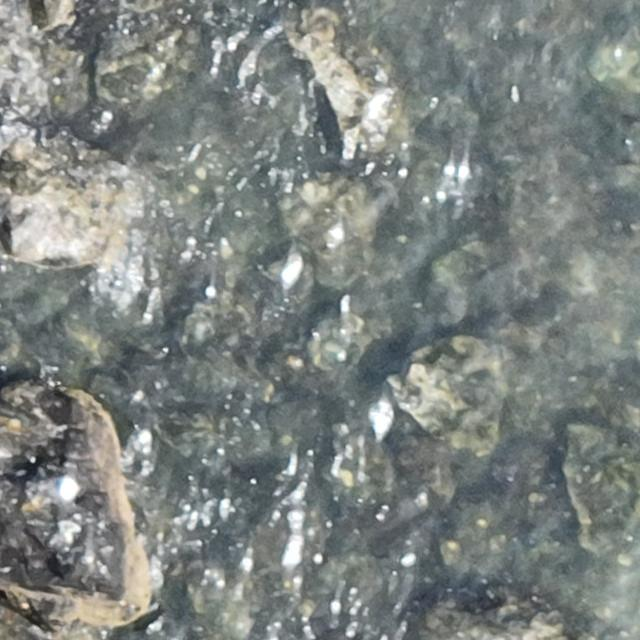umineko: (34, 472, 78, 502)
